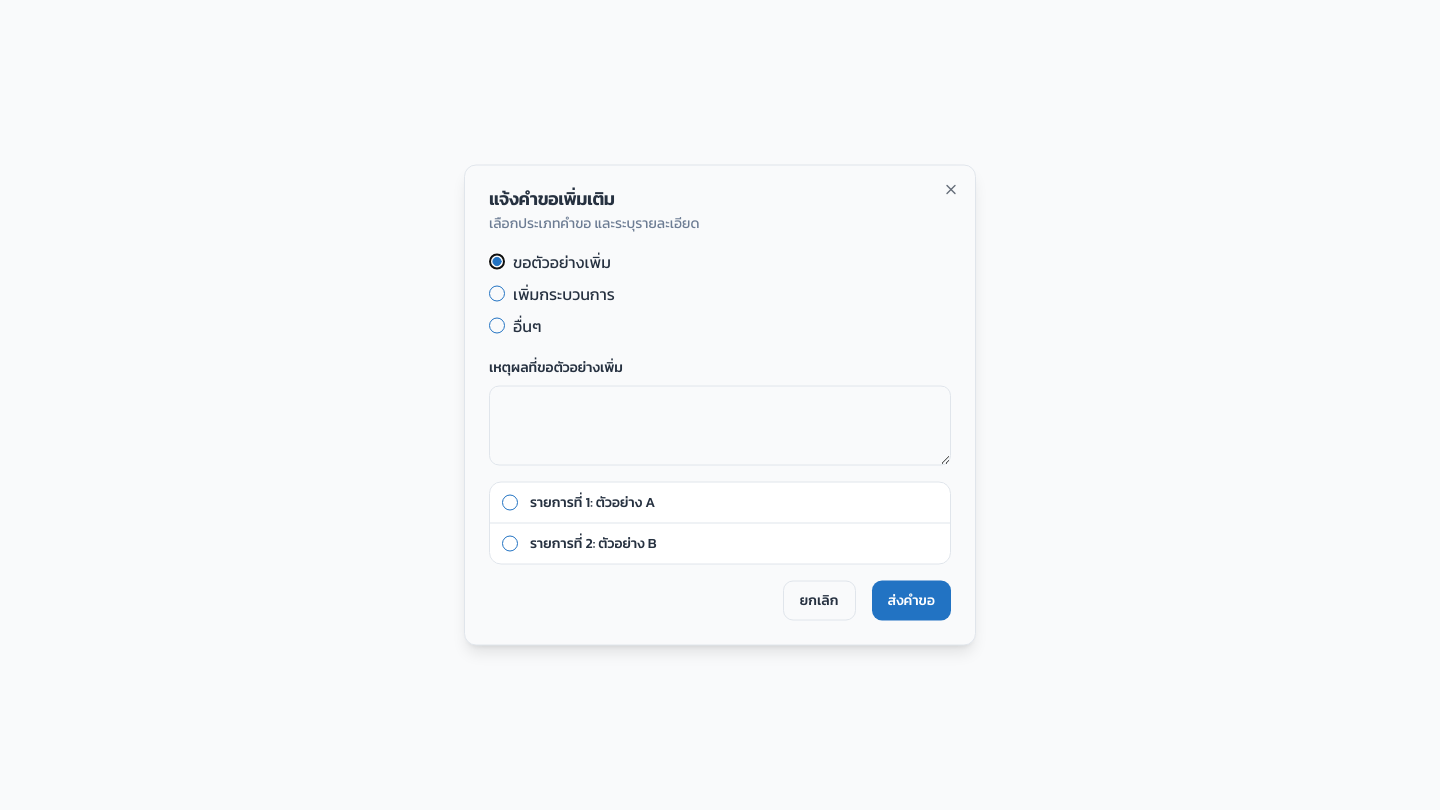
AdditionalSampleRequestDialog › requires an explicit weight entry for every added sample
The image size is (1440, 810).
Step 1. Type " ค่าสูงกว่าเกณฑ์ " into the text box labelled "เหตุผลที่ขอตัวอย่างเพิ่ม" → [720, 426], box x1=489 y1=386 x2=951 y2=466
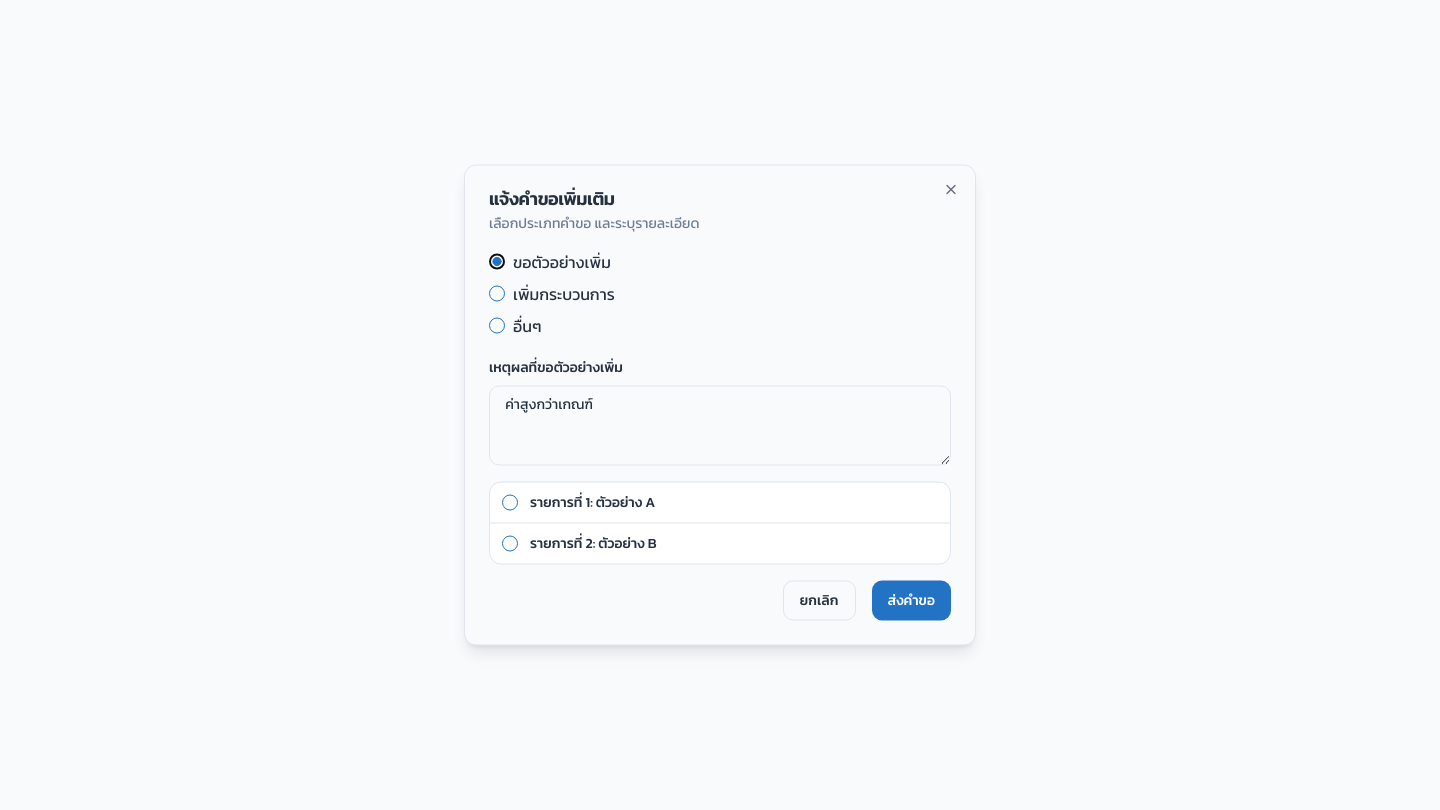
Step 2. Click the checkbox named "ตัวอย่าง A" in the row of "ตัวอย่าง A" → [510, 502], box x1=502 y1=494 x2=518 y2=510
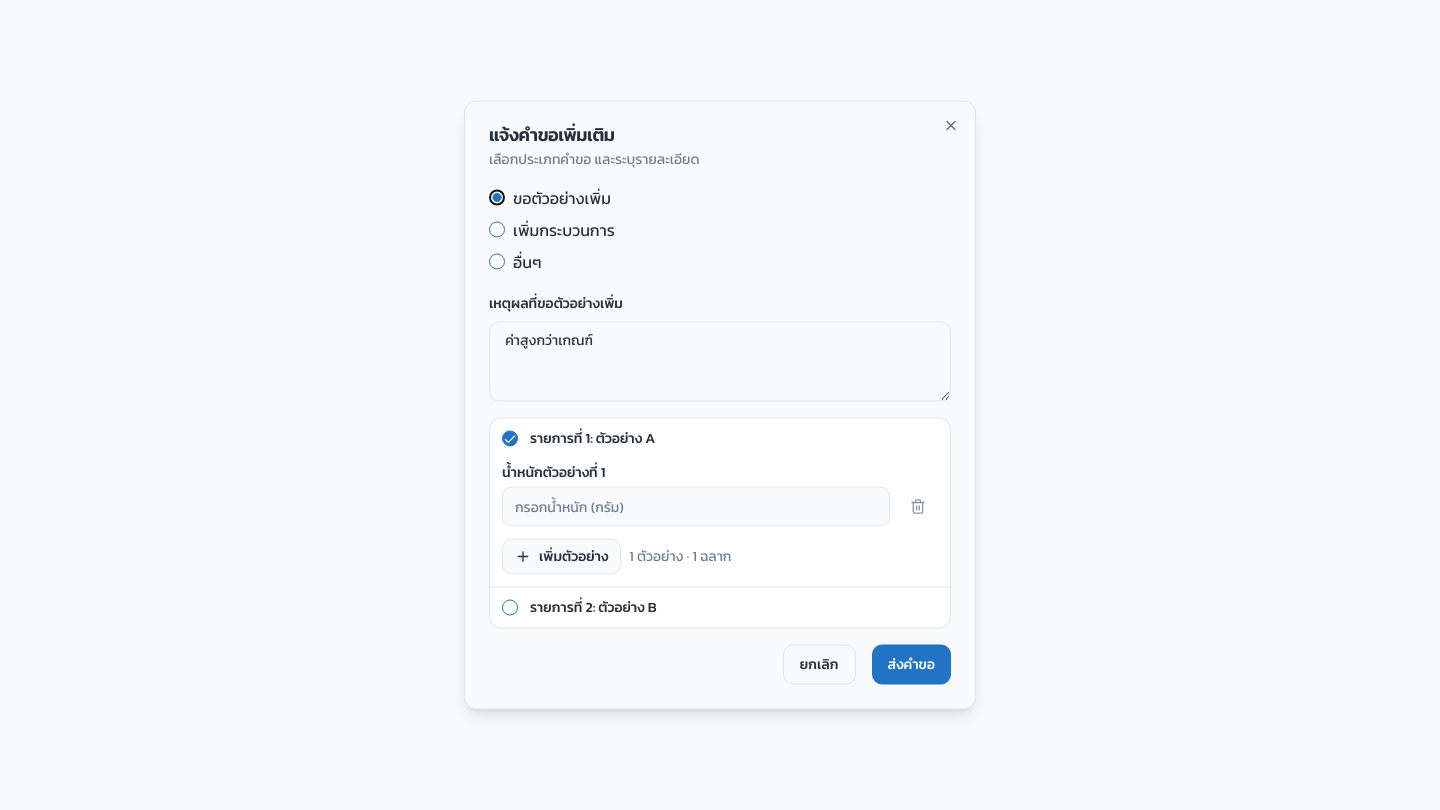
Step 3. Type "100" into the number field named "น้ำหนักตัวอย่างที่ 1 รายการที่ 1" → [696, 506], box x1=502 y1=486 x2=890 y2=526
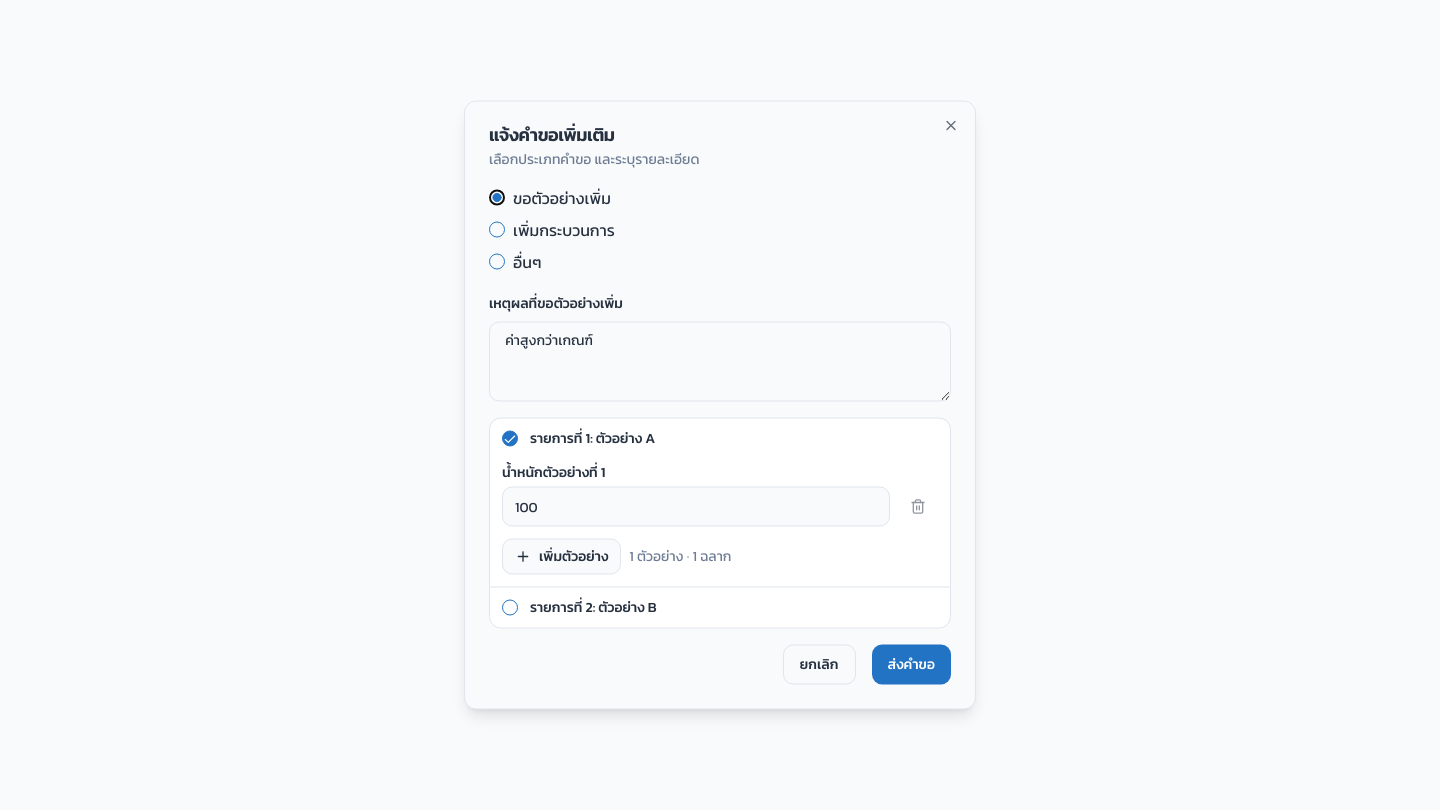
Step 4. Click the button with aria-label "เพิ่มตัวอย่างรายการที่ 1" → [562, 556], box x1=502 y1=538 x2=621 y2=574
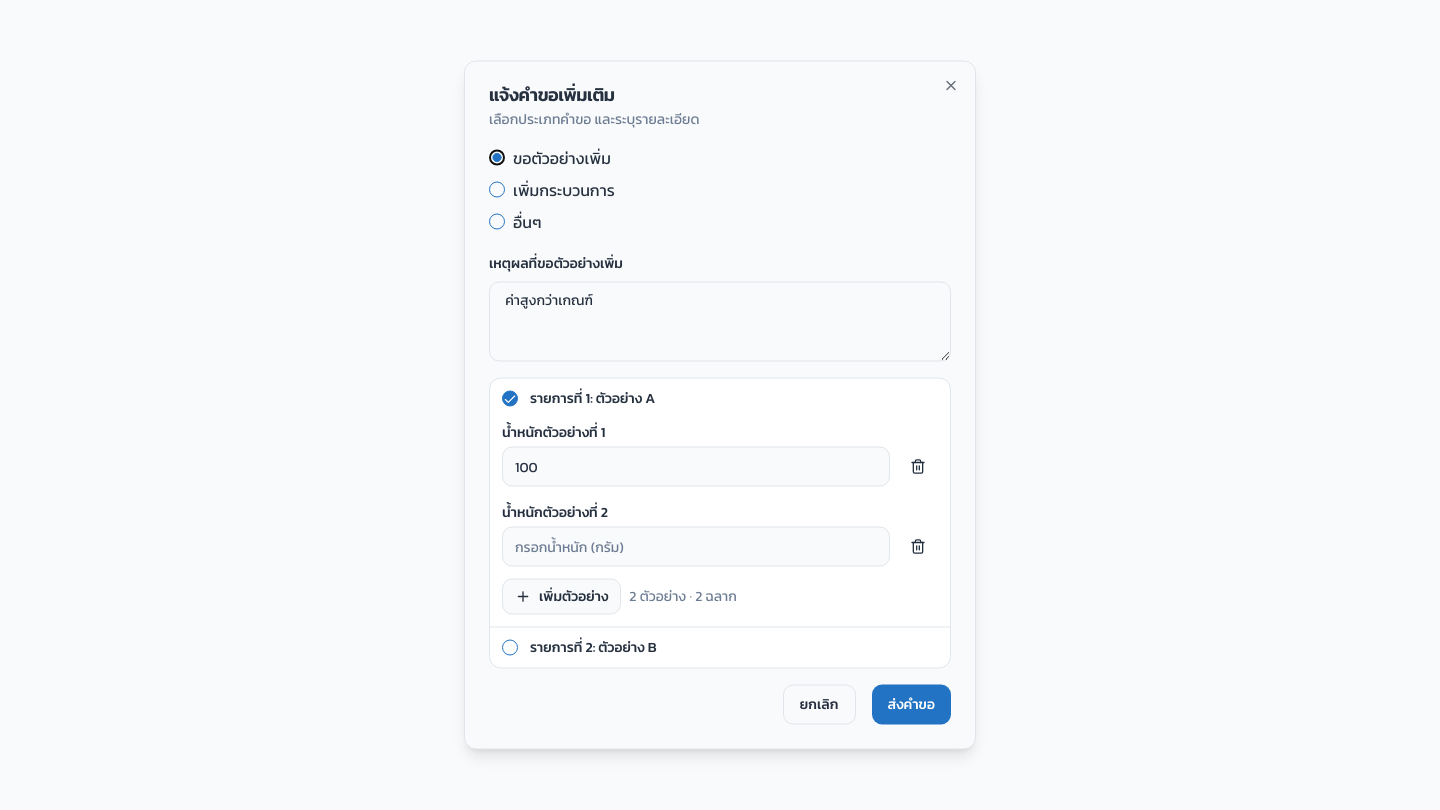
Expected: the number field named "น้ำหนักตัวอย่างที่ 2 รายการที่ 1" is not empty, x1=502 y1=526 x2=890 y2=566
Step 5. Click the button "ส่งคำขอ" → [911, 704], box x1=872 y1=684 x2=951 y2=724
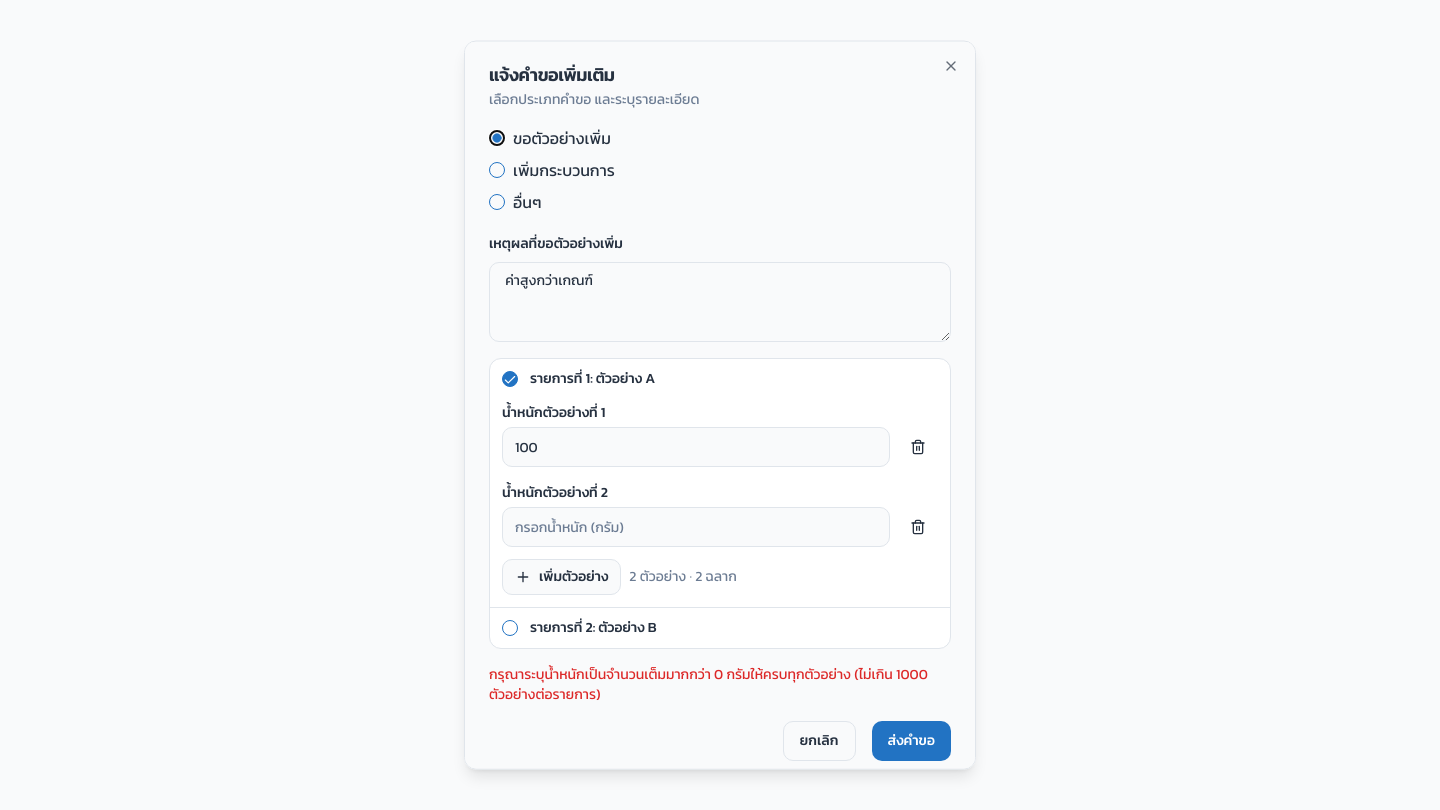
Expected: the message shows "ระบุน้ำหนัก", x1=489 y1=664 x2=928 y2=704
